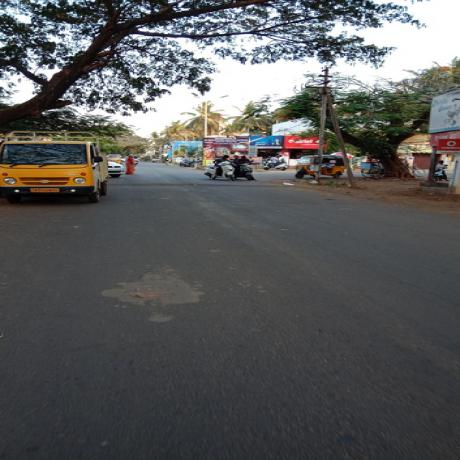Speed Bump: (110, 179, 294, 187)
